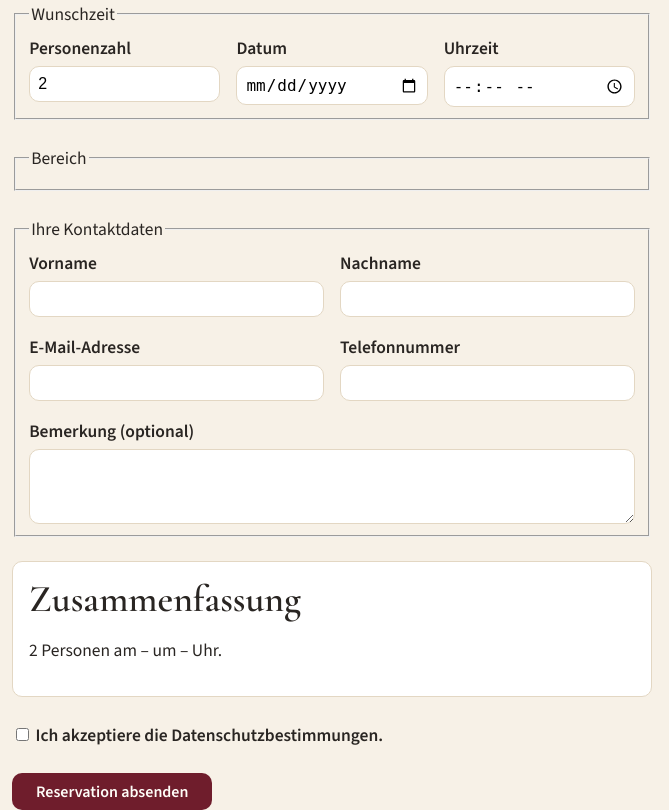
ReservationForm › shows validation errors and does not submit when required fields are missing
The width and height of the screenshot is (669, 810).
Click the button "Reservation absenden" at [112, 792], box [12,773,212,809]
(page scrolled)
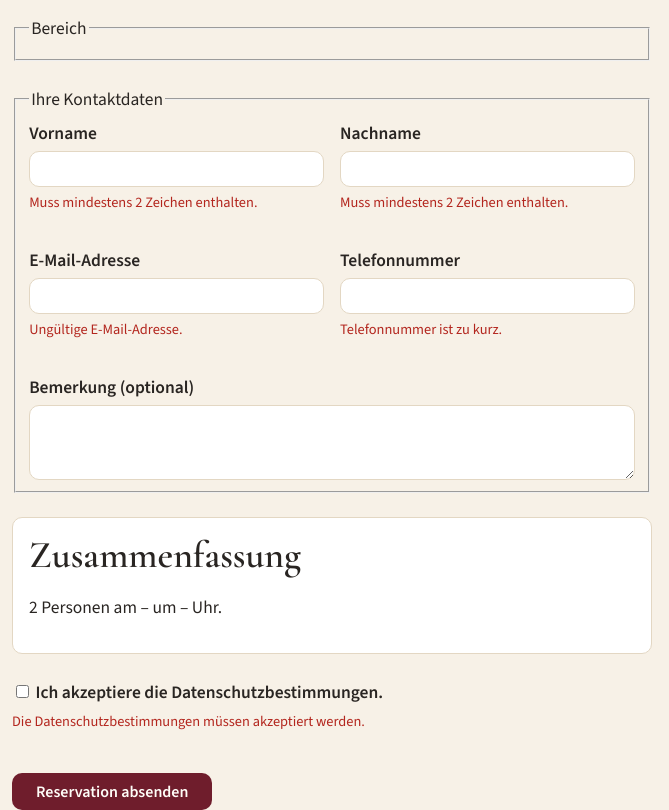
Now the text "Telefonnummer ist zu kurz." is shown, box [340,320,502,339]
Now the text "Die Datenschutzbestimmungen müssen akzeptiert werden." is shown, box [12,712,365,731]
